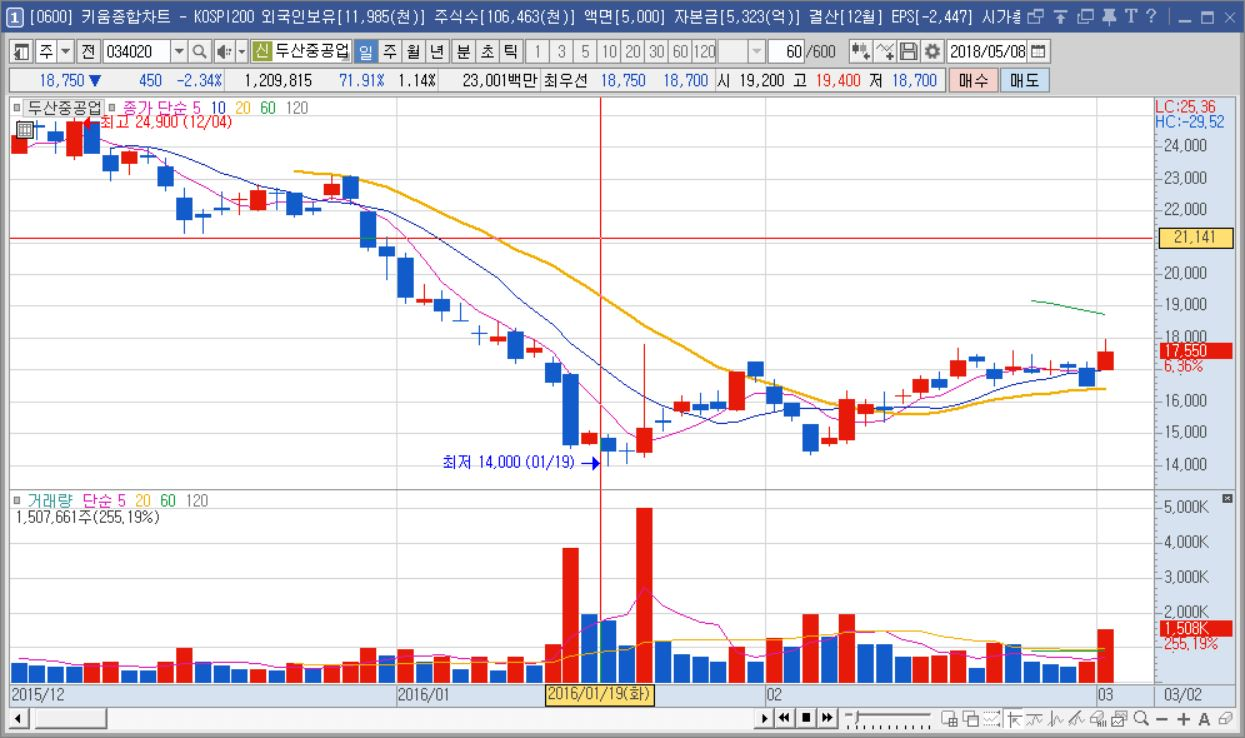up: (802, 322, 1115, 683)
